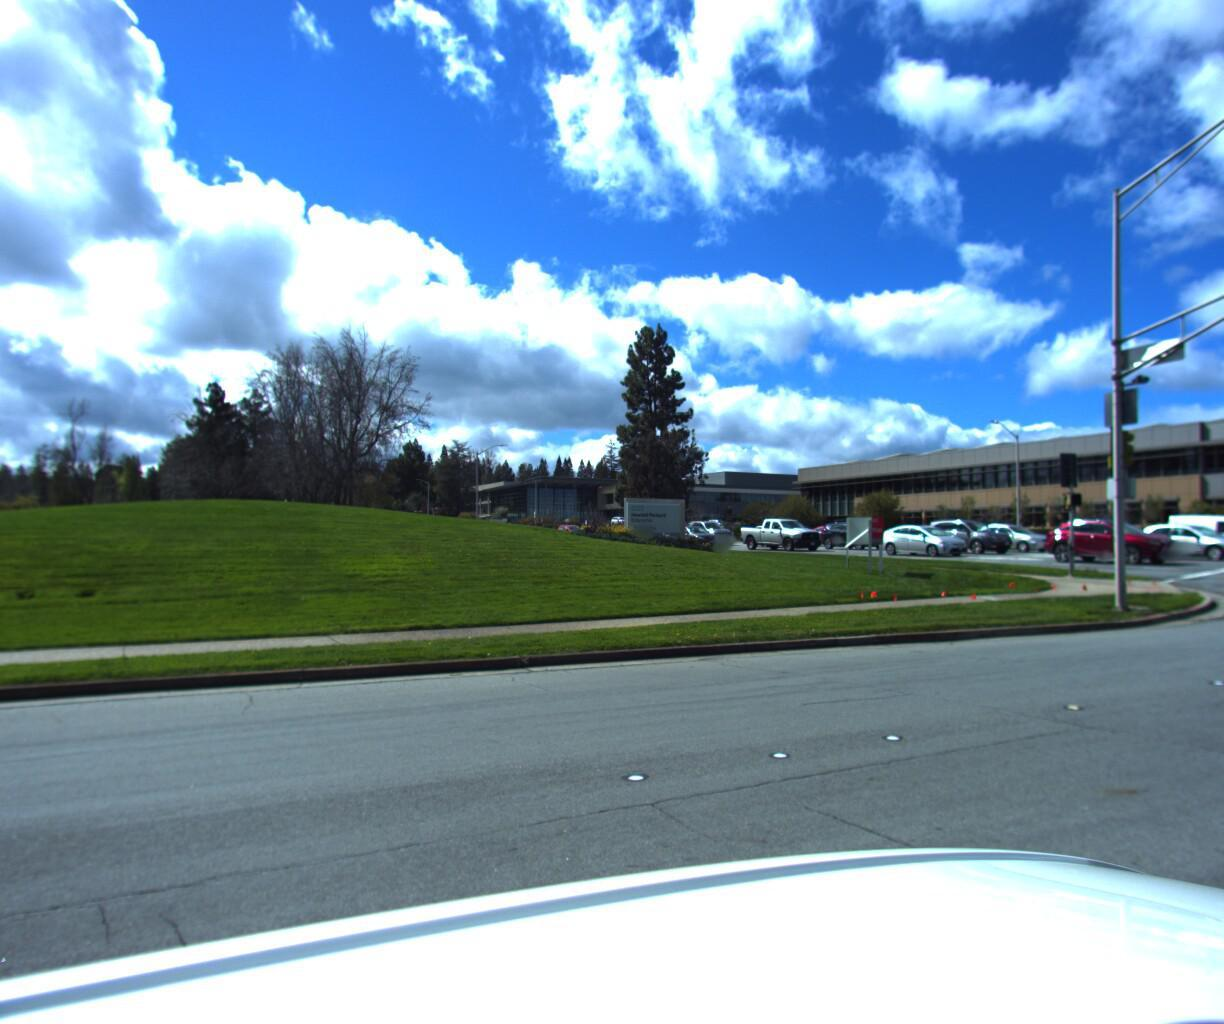car: (1028, 520, 1177, 571), (1116, 526, 1224, 566), (870, 528, 971, 563), (919, 525, 1018, 560), (1155, 516, 1224, 565), (736, 522, 827, 557), (964, 528, 1058, 559), (815, 529, 890, 556), (663, 530, 725, 554), (684, 526, 738, 552), (543, 529, 583, 549)
